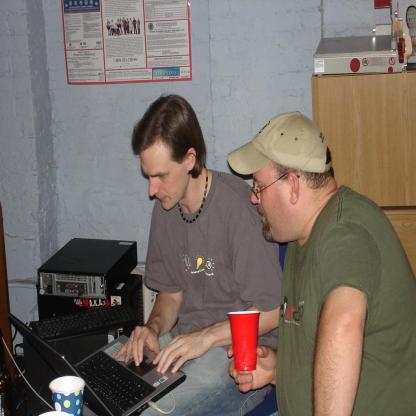board: (6, 310, 185, 415)
